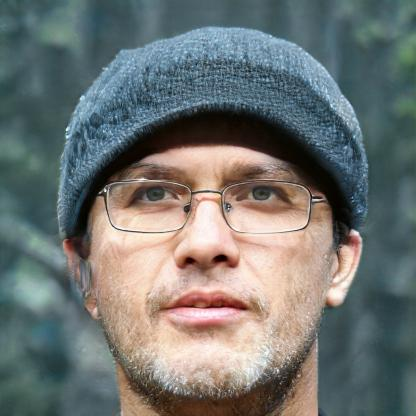glasses: (98, 176, 318, 238)
